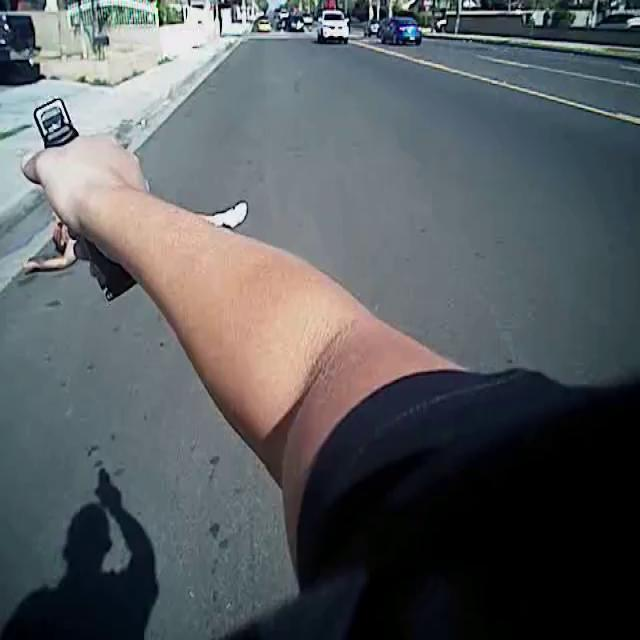gun: (16, 69, 158, 317)
